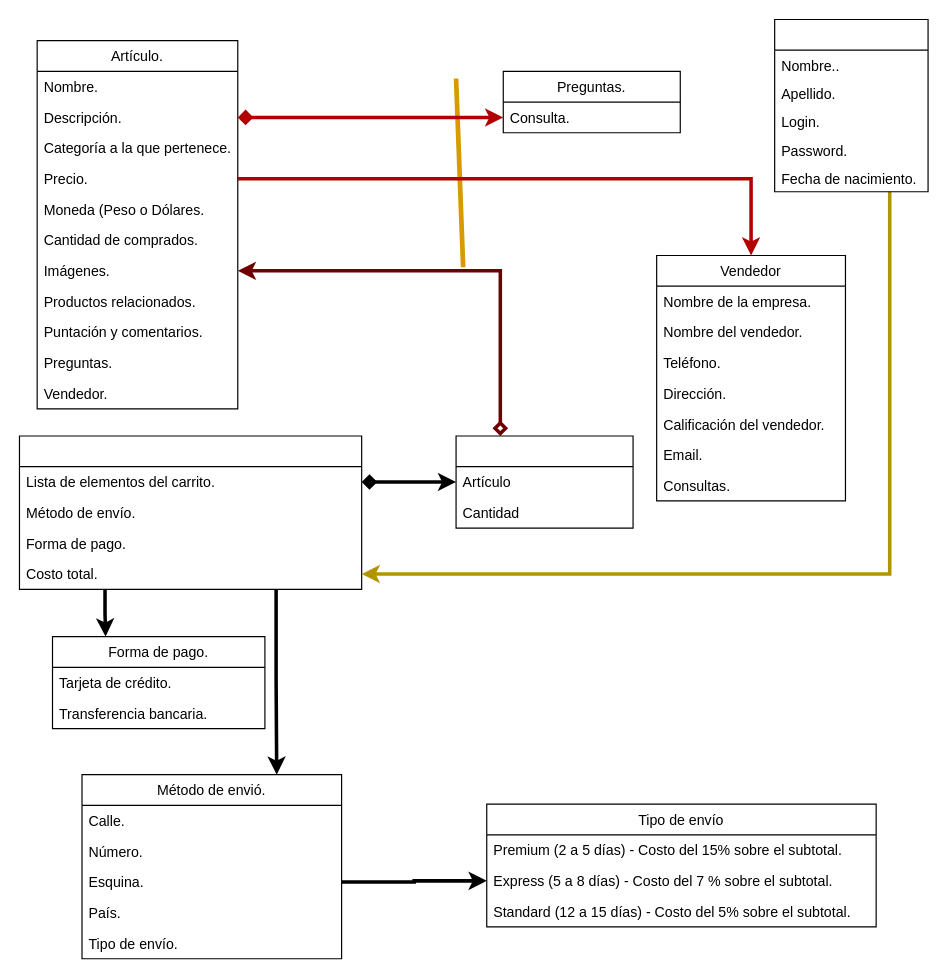
This 948x978 diagram has some shape labels left out. Here are the shapes that lost their labels. From the top down, the box of each, then its label:
(773, 18, 928, 192): Usuario.
(455, 435, 633, 528): Elementos del Carrito.
(18, 435, 362, 589): Carrito de compras.
